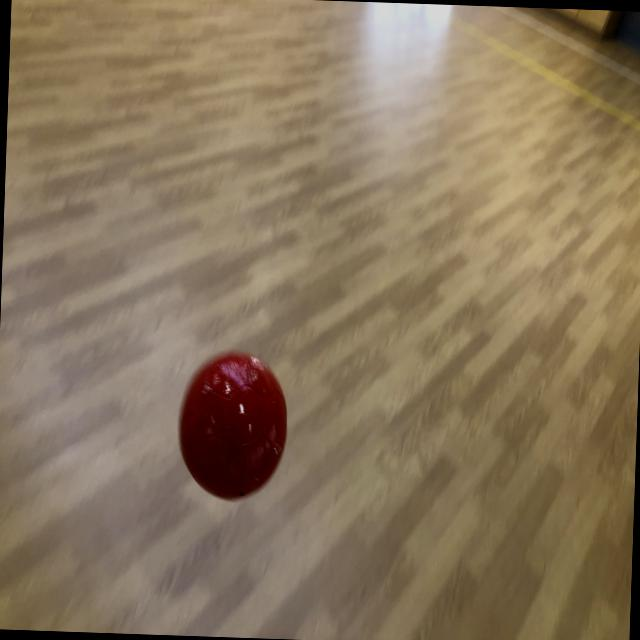red_ball: (176, 351, 290, 504)
